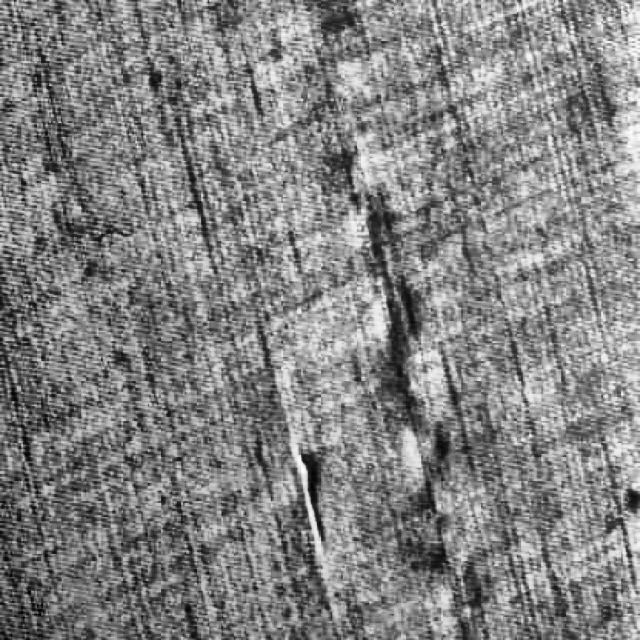thread_error: (278, 427, 347, 560)
